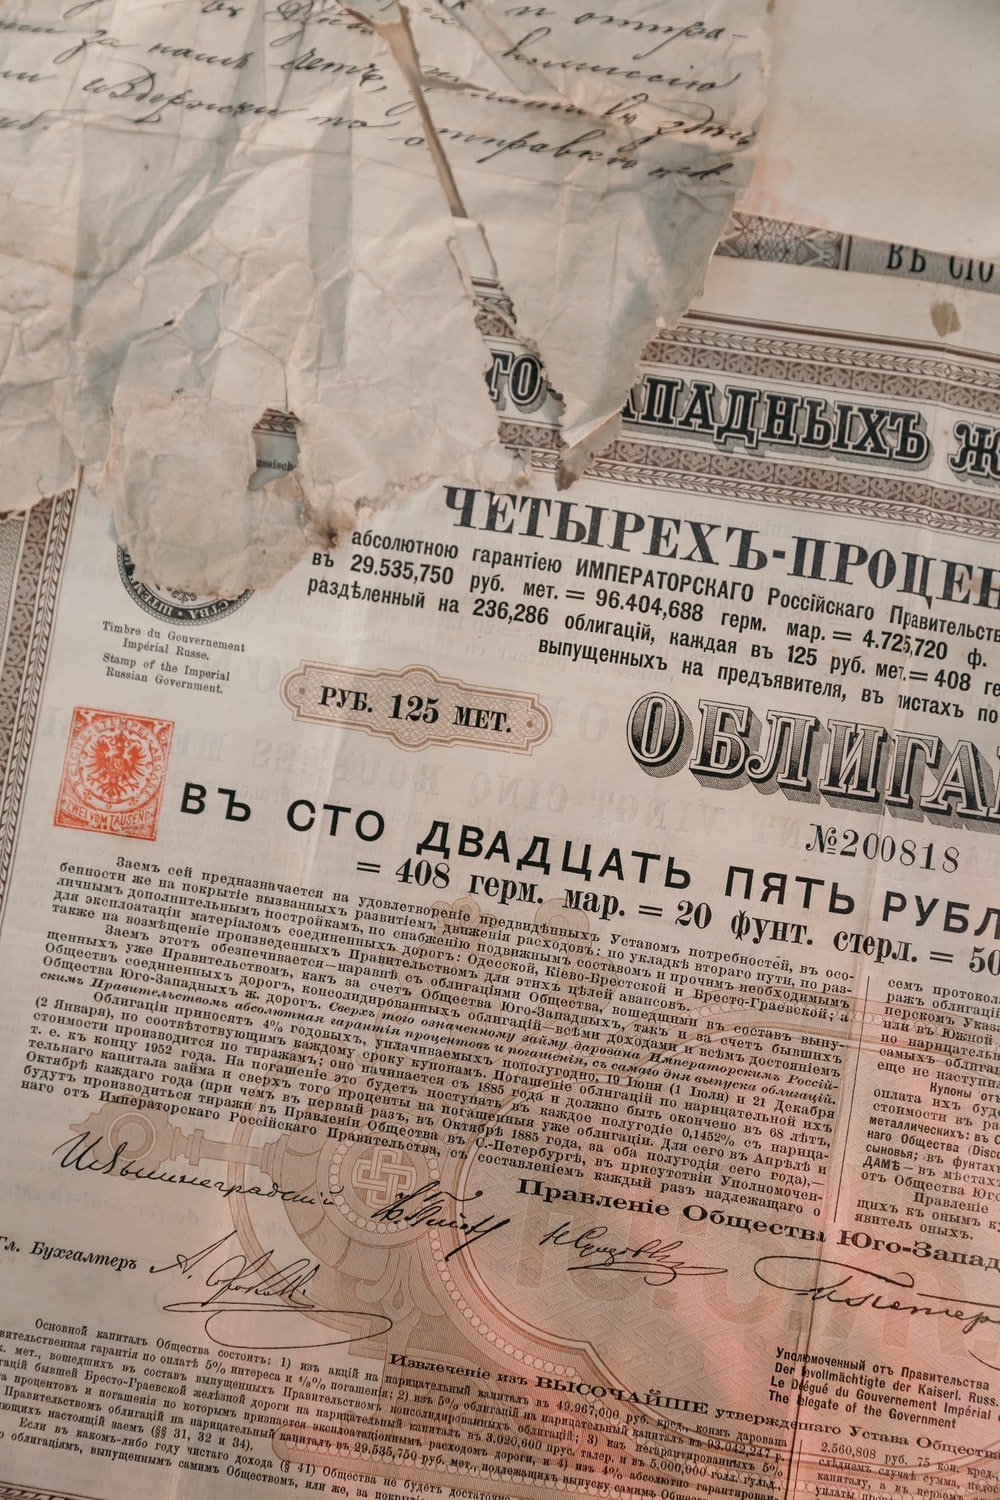news_paper: (1, 137, 1000, 1500)
